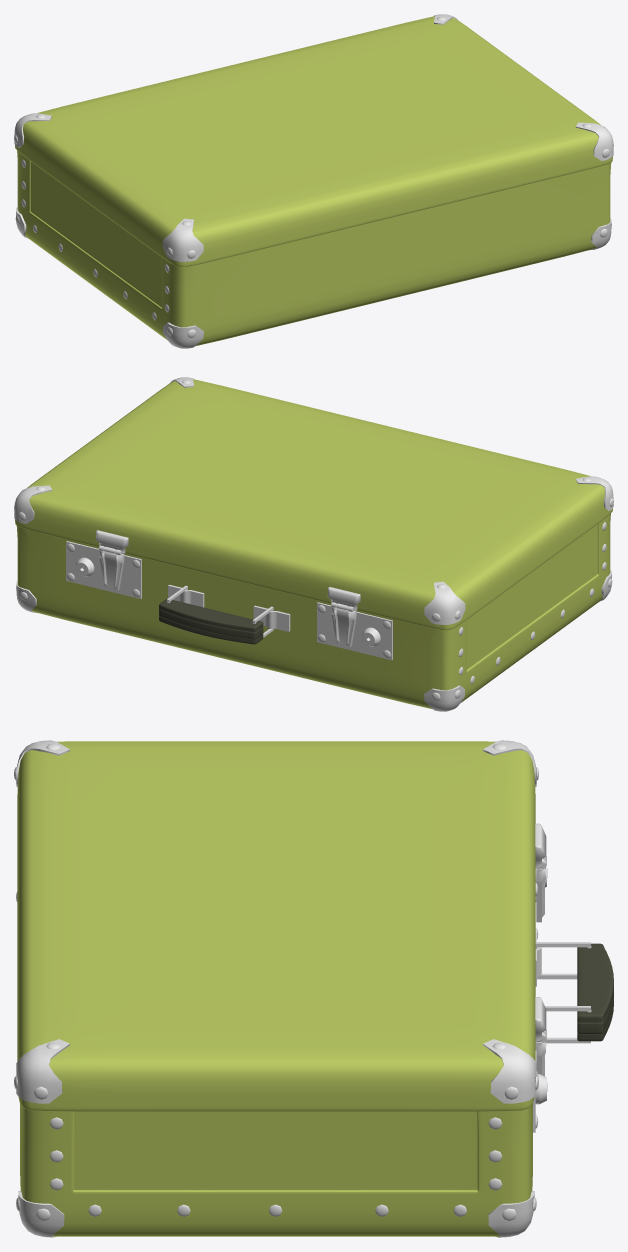
Rendered from suitcase_obj.fbx.
3 renders of one model, top to bottom at view 1: azimuth 30°, elevation 25°; view 2: azimuth 150°, elevation 25°; view 3: azimuth 270°, elevation 25°, orthographic. The views are drawn at different scales.
Visible parts, largest first — view 1: suitxase_suitcase88, suitxase_suitcase87, suitxase_suitcase7, suitxase_suitcase31, suitxase_suitcase11; view 2: suitxase_suitcase88, suitxase_suitcase87, suitxase_suitcase32, suitxase_suitcase52, suitxase_suitcase86, suitxase_suitcase3, suitxase_suitcase56, suitxase_suitcase43, suitxase_suitcase27, suitxase_suitcase15, suitxase_suitcase34, suitxase_suitcase55 (+2 smaller); view 3: suitxase_suitcase88, suitxase_suitcase87, suitxase_suitcase32, suitxase_suitcase11, suitxase_suitcase15, suitxase_suitcase23, suitxase_suitcase19.
Boxes of the visible parts, x1,y1,x2,y2 form: suitxase_suitcase88: (15, 16, 612, 267); suitxase_suitcase87: (17, 150, 611, 345); suitxase_suitcase7: (162, 218, 203, 261); suitxase_suitcase31: (163, 322, 203, 348); suitxase_suitcase11: (575, 122, 613, 160); suitxase_suitcase88: (15, 379, 612, 630); suitxase_suitcase87: (16, 513, 610, 708); suitxase_suitcase32: (159, 599, 263, 644); suitxase_suitcase52: (317, 602, 392, 660); suitxase_suitcase86: (66, 541, 141, 598); suitxase_suitcase3: (424, 581, 465, 624); suitxase_suitcase56: (331, 607, 356, 647); suitxase_suitcase43: (99, 550, 124, 590); suitxase_suitcase27: (424, 685, 465, 711); suitxase_suitcase15: (14, 485, 52, 523); suitxase_suitcase34: (253, 605, 290, 631); suitxase_suitcase55: (327, 587, 360, 610); suitxase_suitcase88: (17, 741, 535, 1111); suitxase_suitcase87: (20, 1105, 532, 1236); suitxase_suitcase32: (577, 943, 613, 1041); suitxase_suitcase11: (16, 1039, 69, 1103); suitxase_suitcase15: (483, 1039, 536, 1103); suitxase_suitcase23: (488, 1191, 534, 1237); suitxase_suitcase19: (18, 1191, 64, 1237).
Size of the model in its own units: 80.3 by 21.37 by 61.31.
